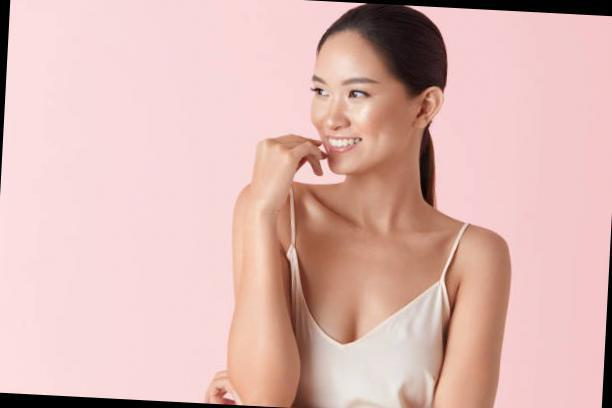Sober: (313, 47, 406, 165)
